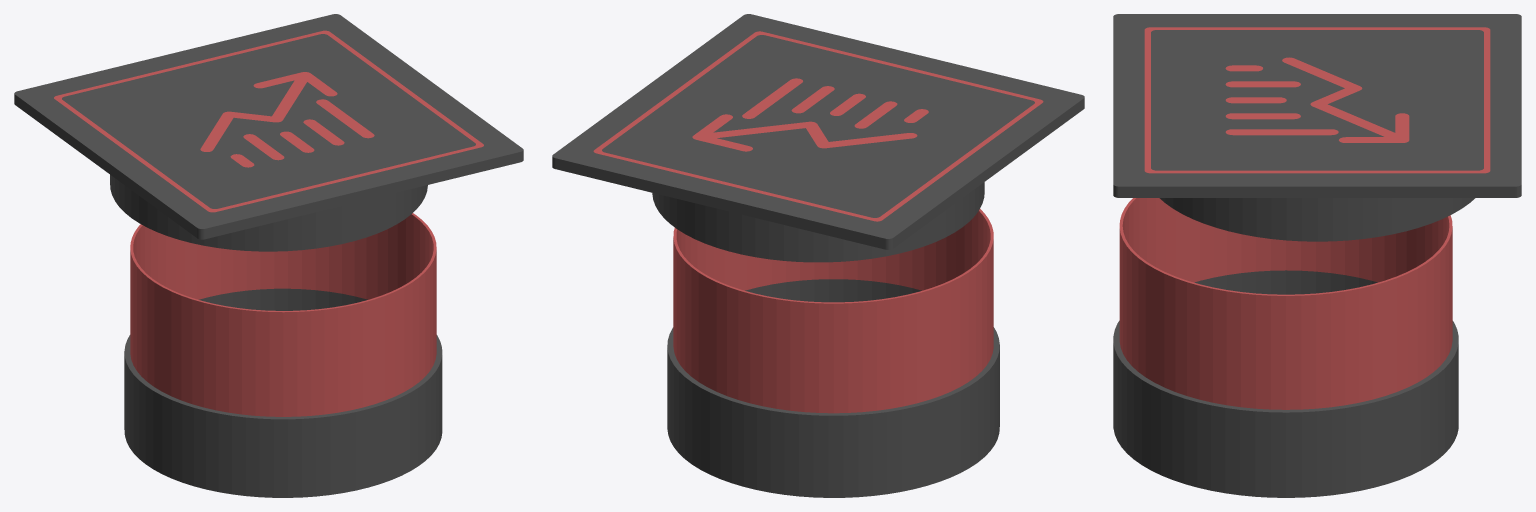
The model's file is bomboniera-economia-facolta-aperto.glb.
The picture shows the model from 3 angles, left to right: view 1: azimuth 30°, elevation 25°; view 2: azimuth 150°, elevation 25°; view 3: azimuth 270°, elevation 25°; orthographic projection. The views are drawn at different scales.
Visible parts, largest first — view 1: struttura_coperchio, fascia, struttura_base, simbolo_intarsio, bordo; view 2: struttura_coperchio, fascia, struttura_base, simbolo_intarsio, bordo; view 3: struttura_coperchio, fascia, struttura_base, simbolo_intarsio, bordo.
Boxes of the visible parts, x1,y1,x2,y2 form: struttura_coperchio: (14, 14, 523, 251); fascia: (130, 213, 436, 416); struttura_base: (124, 288, 442, 497); simbolo_intarsio: (200, 72, 374, 167); bordo: (54, 30, 483, 212); struttura_coperchio: (552, 14, 1084, 262); fascia: (673, 209, 993, 413); struttura_base: (667, 279, 999, 497); simbolo_intarsio: (692, 78, 928, 151); bordo: (593, 31, 1043, 221); struttura_coperchio: (1113, 14, 1521, 241); fascia: (1119, 198, 1452, 409); struttura_base: (1113, 270, 1458, 497); simbolo_intarsio: (1225, 57, 1409, 142); bordo: (1144, 27, 1490, 173).
Size of the model in its own units: 0.065 by 0.057 by 0.065.
